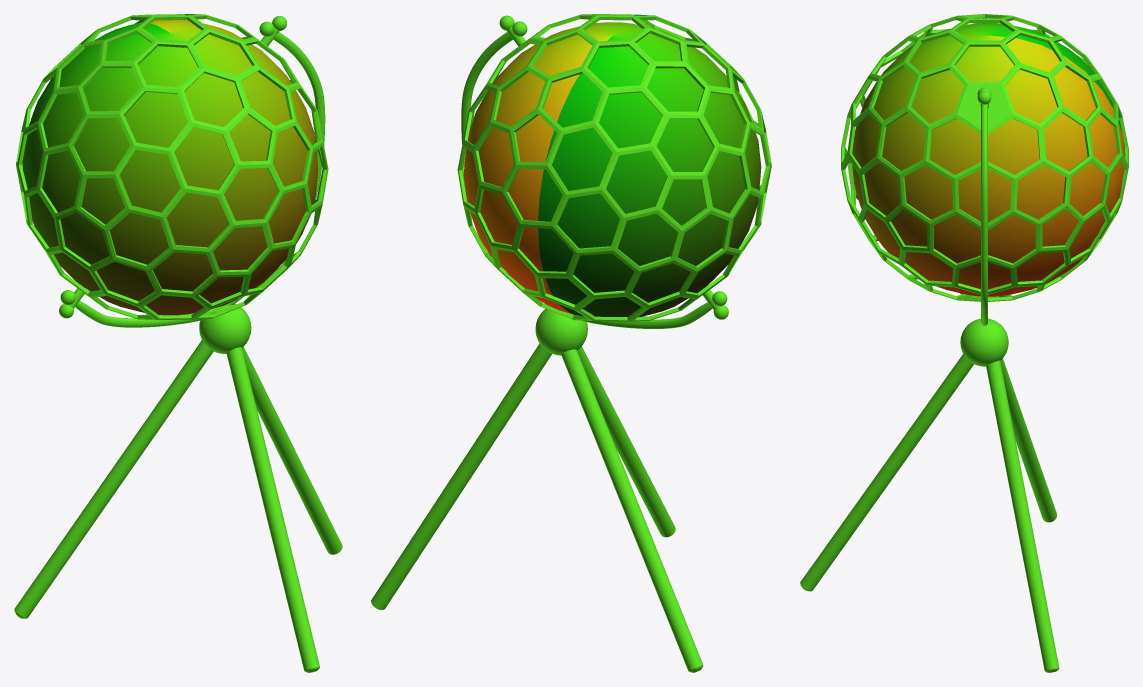
The model's file is BolaMundi.fbx.
3 views of the same model, side by side, from view 1: azimuth 30°, elevation 25°; view 2: azimuth 150°, elevation 25°; view 3: azimuth 270°, elevation 25° (orthographic). The views are drawn at different scales.
Parts seen in each view (by area): view 1: Sphere009, GeoSphere001, Cylinder076, Line037, Sphere008; view 2: Sphere009, GeoSphere001, Cylinder076, Line037, Sphere008; view 3: Sphere009, GeoSphere001, Cylinder076, Sphere008, Line037.
Boxes of the visible parts, box(x1,y1,x2,y2) form: Sphere009: box(22, 20, 318, 315); GeoSphere001: box(16, 14, 328, 319); Cylinder076: box(14, 340, 342, 672); Line037: box(59, 16, 325, 327); Sphere008: box(199, 304, 251, 353); Sphere009: box(463, 22, 761, 316); GeoSphere001: box(457, 14, 771, 321); Cylinder076: box(371, 343, 703, 672); Line037: box(461, 15, 728, 328); Sphere008: box(535, 308, 587, 355); Sphere009: box(852, 23, 1125, 296); GeoSphere001: box(841, 14, 1128, 301); Cylinder076: box(800, 354, 1059, 672); Sphere008: box(960, 318, 1008, 366); Line037: box(977, 87, 991, 325).
Bounding box in the file's own units: 31.81 × 53.51 × 28.77.
